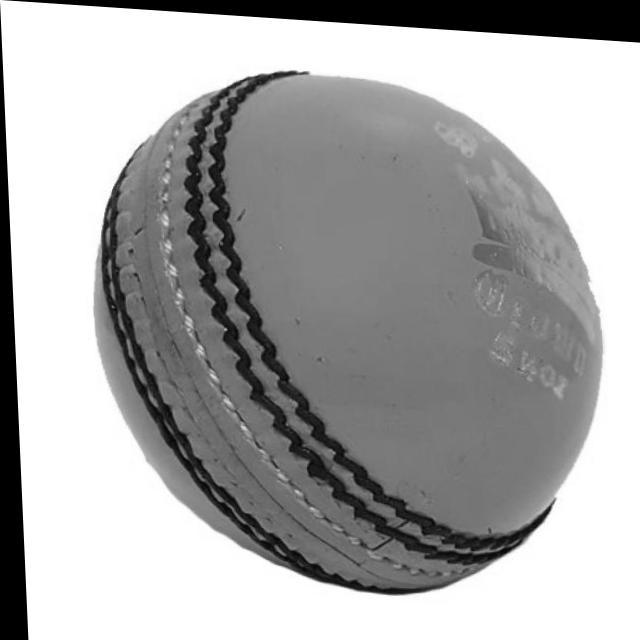cricket ball: (92, 67, 601, 590)
